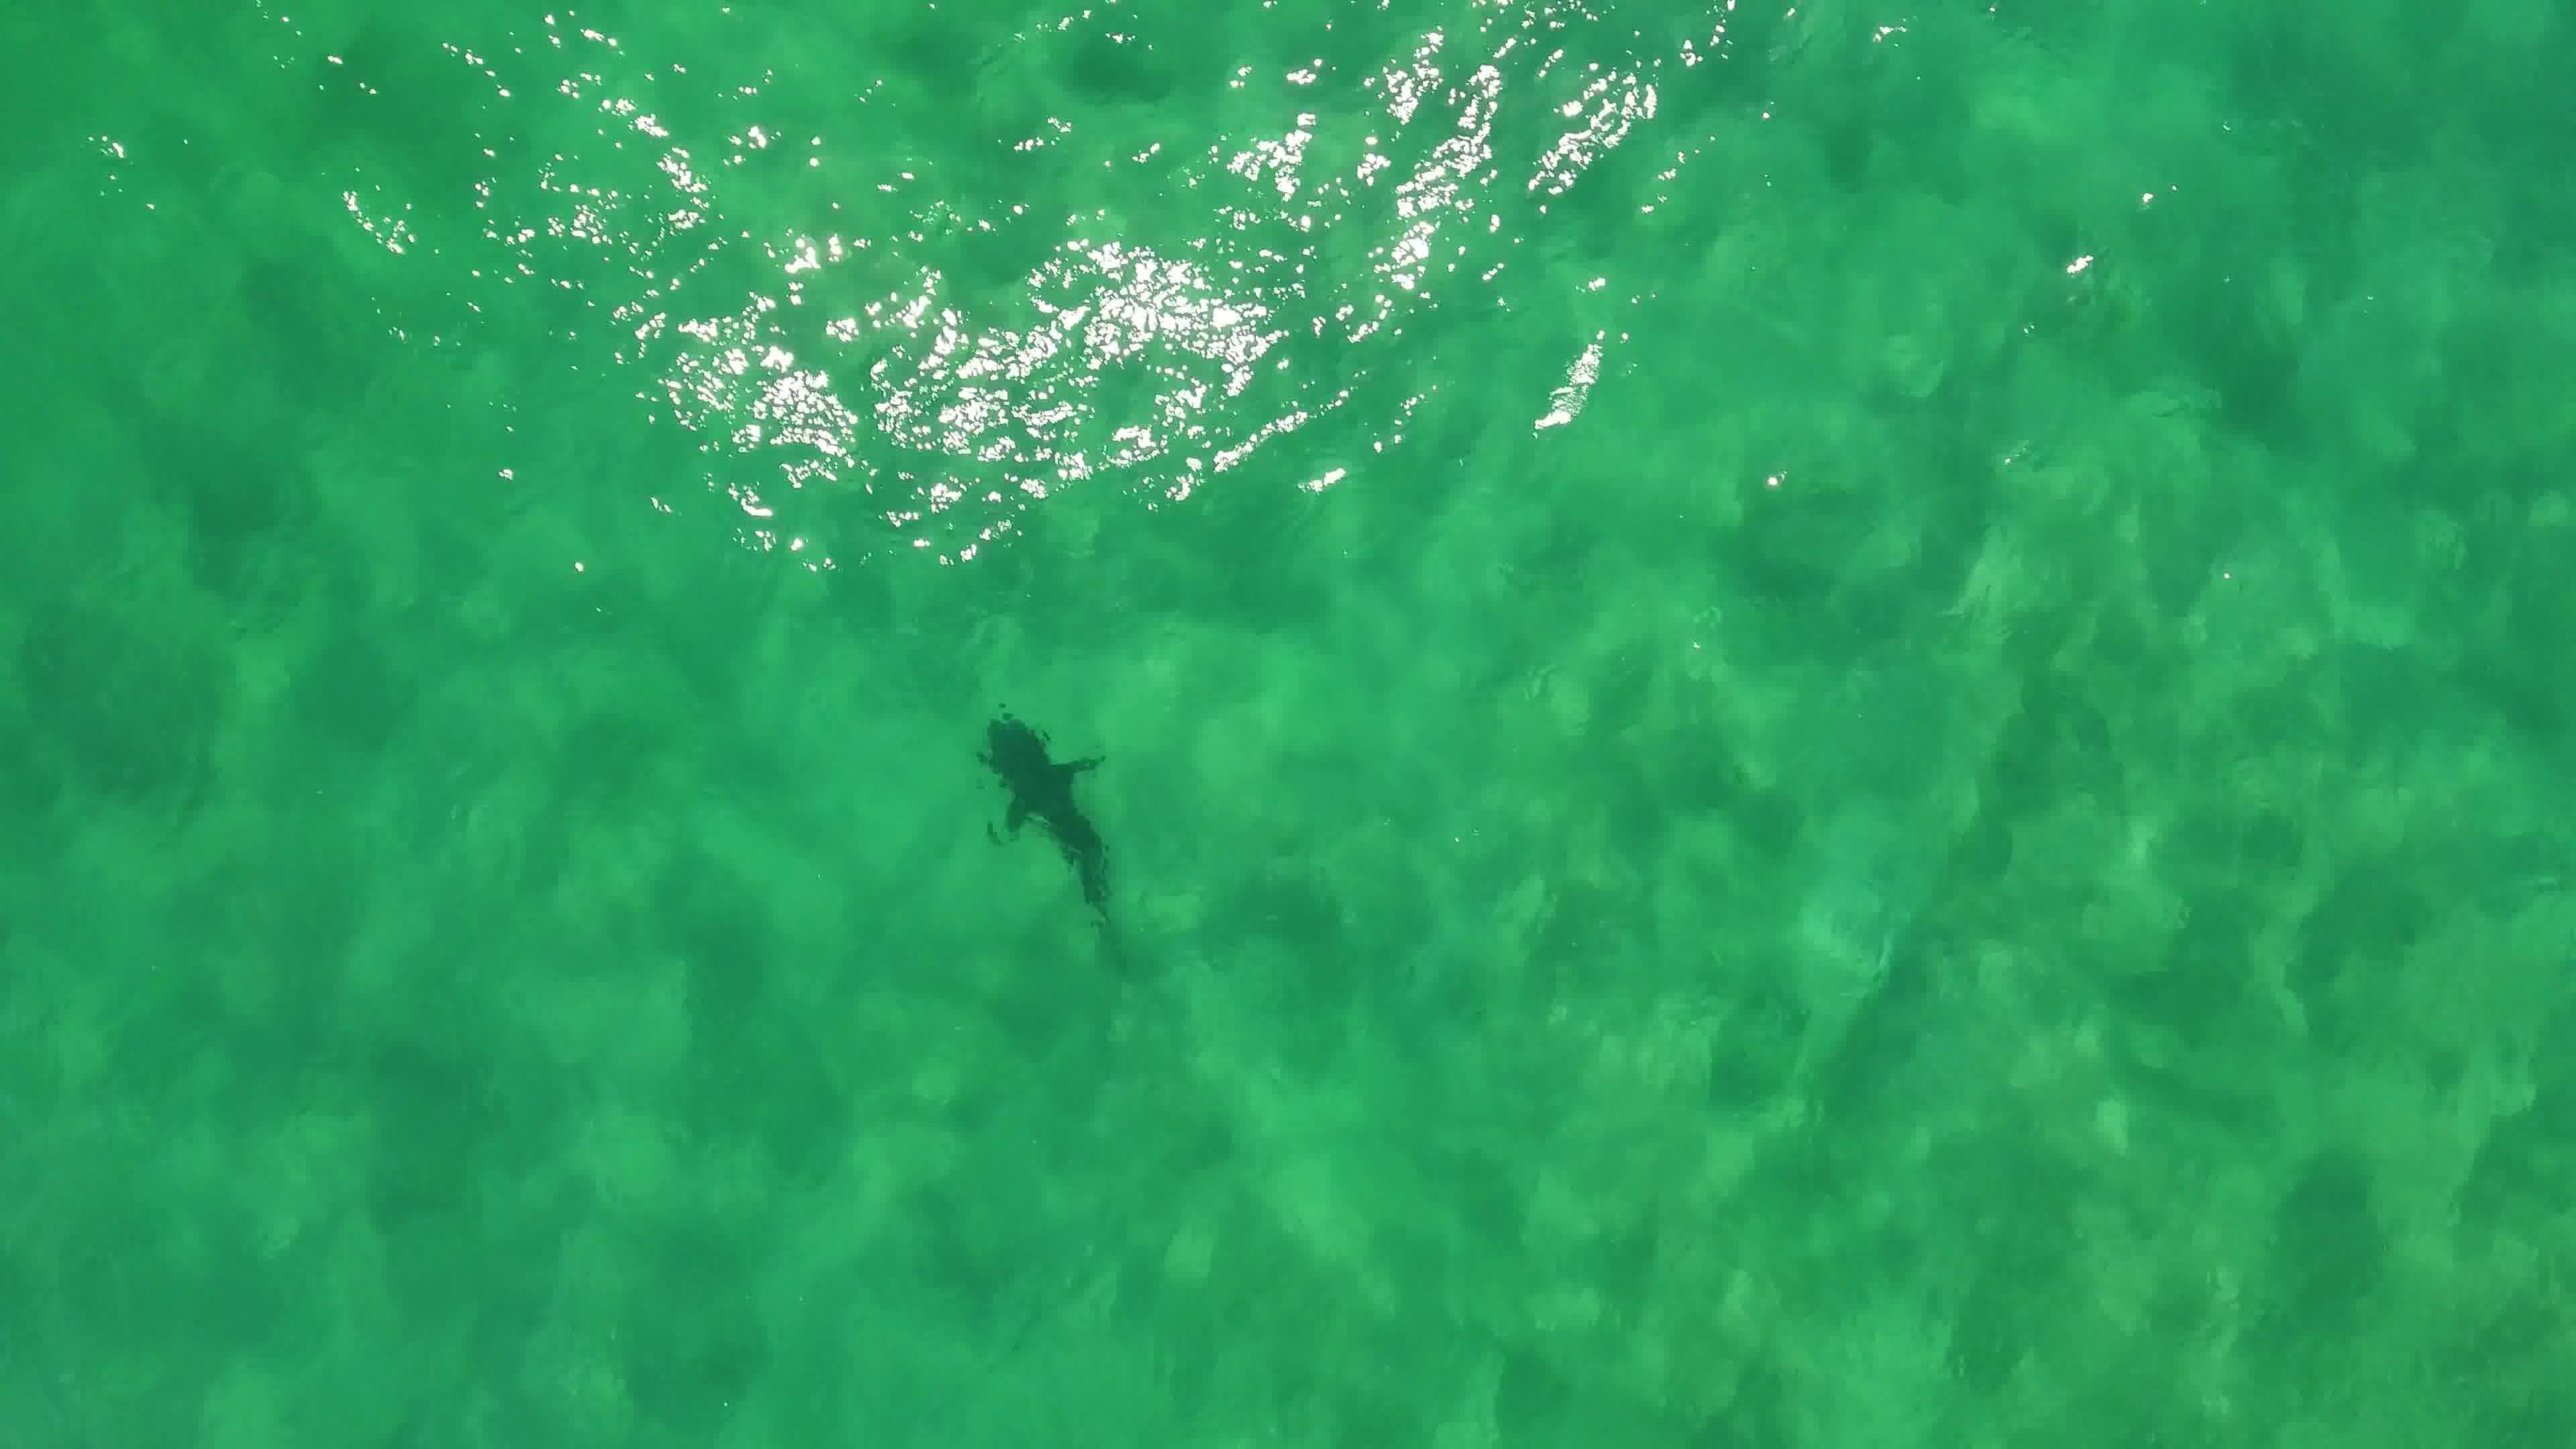shark: (971, 701, 1118, 913)
